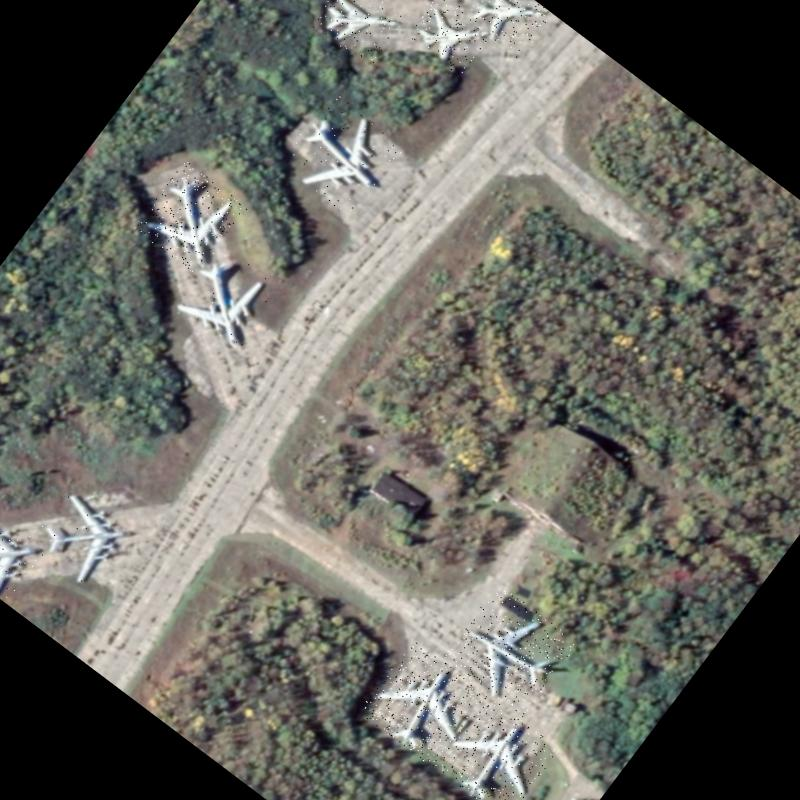A12: (405, 0, 493, 77), (308, 0, 406, 69), (462, 0, 553, 59)
A17: (443, 584, 578, 718), (358, 639, 490, 771), (276, 89, 406, 219), (167, 240, 284, 357), (432, 695, 560, 800), (133, 160, 248, 276), (26, 480, 138, 592), (0, 501, 47, 603)
